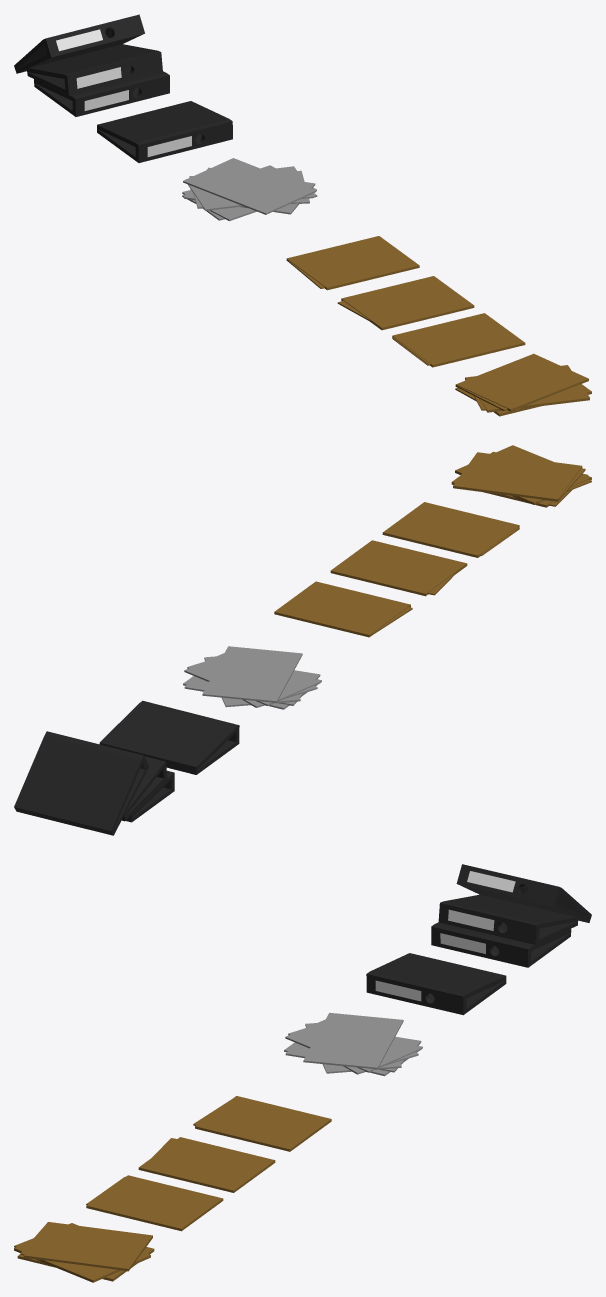
The model's file is paper.fbx.
3 renders of one model, top to bottom at view 1: azimuth 30°, elevation 25°; view 2: azimuth 150°, elevation 25°; view 3: azimuth 330°, elevation 25°, orthographic. The views are drawn at different scales.
Parts seen in each view (by area): view 1: Cube.004, Cube.001, Cube.002, Cube.014, Cube.009, Cube.006, Cube.012; view 2: Cube.004, Cube.002, Cube.001, Cube.014, Cube.009, Cube.006, Cube.012; view 3: Cube.004, Cube.001, Cube.014, Cube.002, Cube.009, Cube.006, Cube.012.
Boxes of the visible parts, <box> form: Cube.004: <box>14,14,169,116</box>; Cube.001: <box>182,158,317,221</box>; Cube.002: <box>97,101,232,162</box>; Cube.014: <box>455,353,591,416</box>; Cube.009: <box>337,276,474,330</box>; Cube.006: <box>286,236,419,290</box>; Cube.012: <box>392,313,525,367</box>; Cube.004: <box>14,731,174,835</box>; Cube.002: <box>99,700,239,774</box>; Cube.001: <box>183,646,321,709</box>; Cube.014: <box>451,445,591,507</box>; Cube.009: <box>330,540,467,596</box>; Cube.006: <box>274,581,412,637</box>; Cube.012: <box>382,502,519,557</box>; Cube.004: <box>431,864,591,967</box>; Cube.001: <box>284,1012,422,1076</box>; Cube.014: <box>14,1222,154,1282</box>; Cube.002: <box>366,953,506,1015</box>; Cube.009: <box>138,1137,275,1192</box>; Cube.006: <box>193,1096,331,1151</box>; Cube.012: <box>86,1175,223,1231</box>.
Bounding box in the file's own units: 116 × 54.06 × 823.
